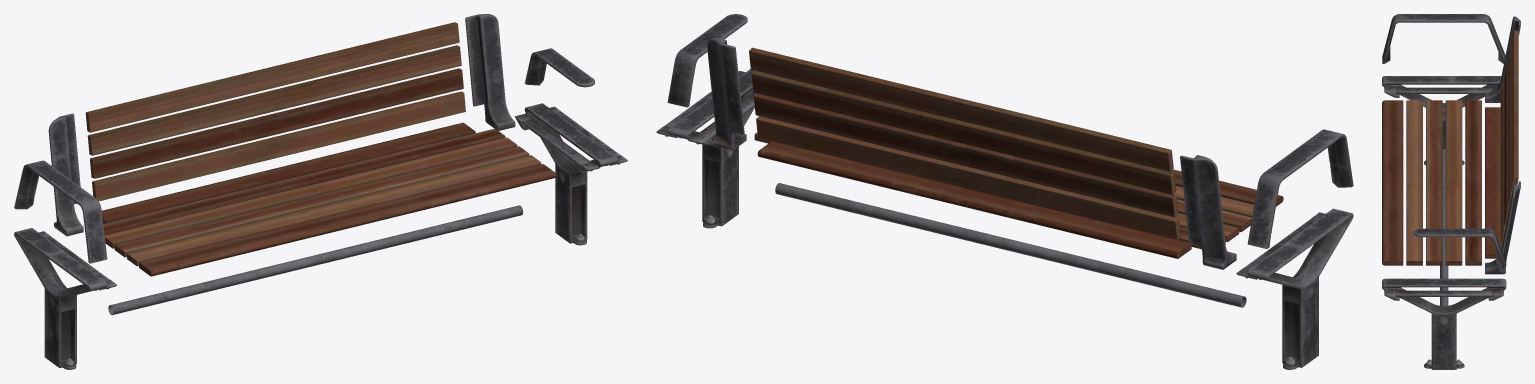
The model's file is street_bench.glb.
3 views of the same model, side by side, from view 1: azimuth 30°, elevation 25°; view 2: azimuth 150°, elevation 25°; view 3: azimuth 270°, elevation 25° (orthographic). The views are drawn at different scales.
Parts seen in each view (by area): view 1: street_bench; view 2: street_bench; view 3: street_bench.
Boxes of the visible parts, bbox=[...] form: street_bench: bbox=[14, 14, 627, 369]; street_bench: bbox=[656, 14, 1353, 369]; street_bench: bbox=[1382, 14, 1520, 369].
Size of the model in its own units: 2.45 by 0.8669 by 0.6705.
3 materials, 3 textured.
